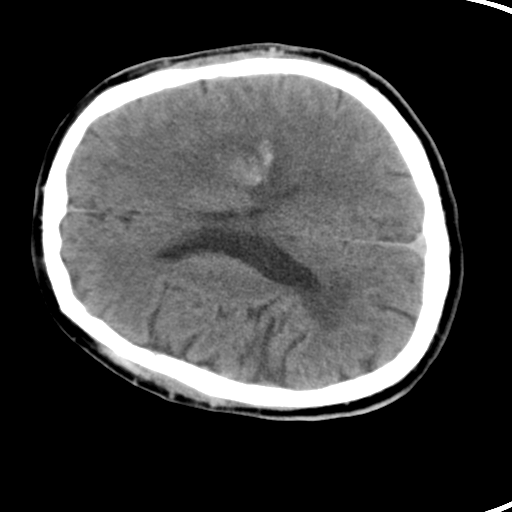a: (171, 124, 289, 205)
